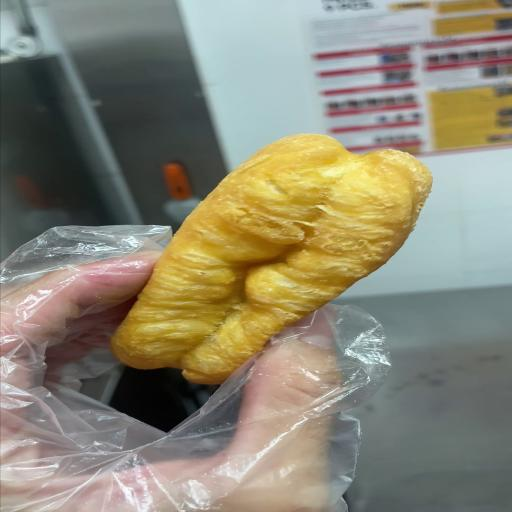brand_golden_good: (111, 134, 431, 383)
